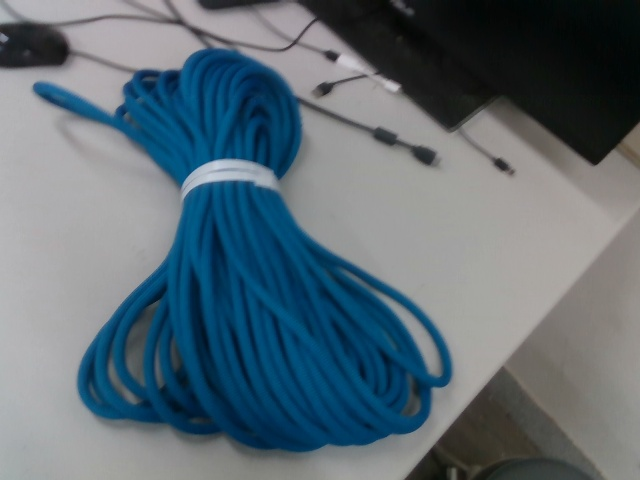rope: (28, 45, 462, 456)
